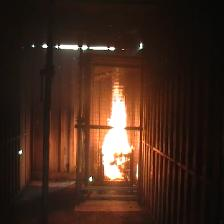fire: (102, 80, 134, 181)
